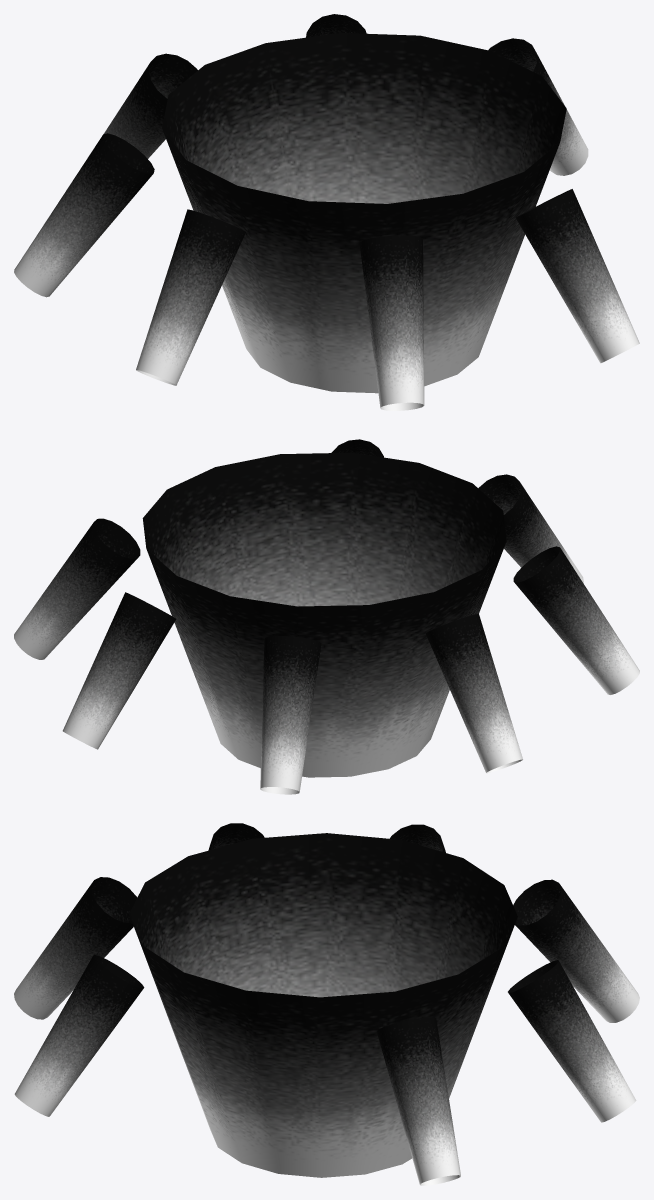
The model's file is ProjectorShards.fbx.
3 renders of one model, top to bottom at view 1: azimuth 30°, elevation 25°; view 2: azimuth 150°, elevation 25°; view 3: azimuth 270°, elevation 25°, orthographic. The views are drawn at different scales.
Visible parts, largest first — view 1: polySurface1; view 2: polySurface1; view 3: polySurface1.
Part boxes in pixels (x1=…): polySurface1: x1=14, y1=14, x2=639, y2=410; polySurface1: x1=14, y1=439, x2=639, y2=794; polySurface1: x1=14, y1=823, x2=639, y2=1185.
Size of the model in its own units: 2.34 by 0.886 by 2.34.
